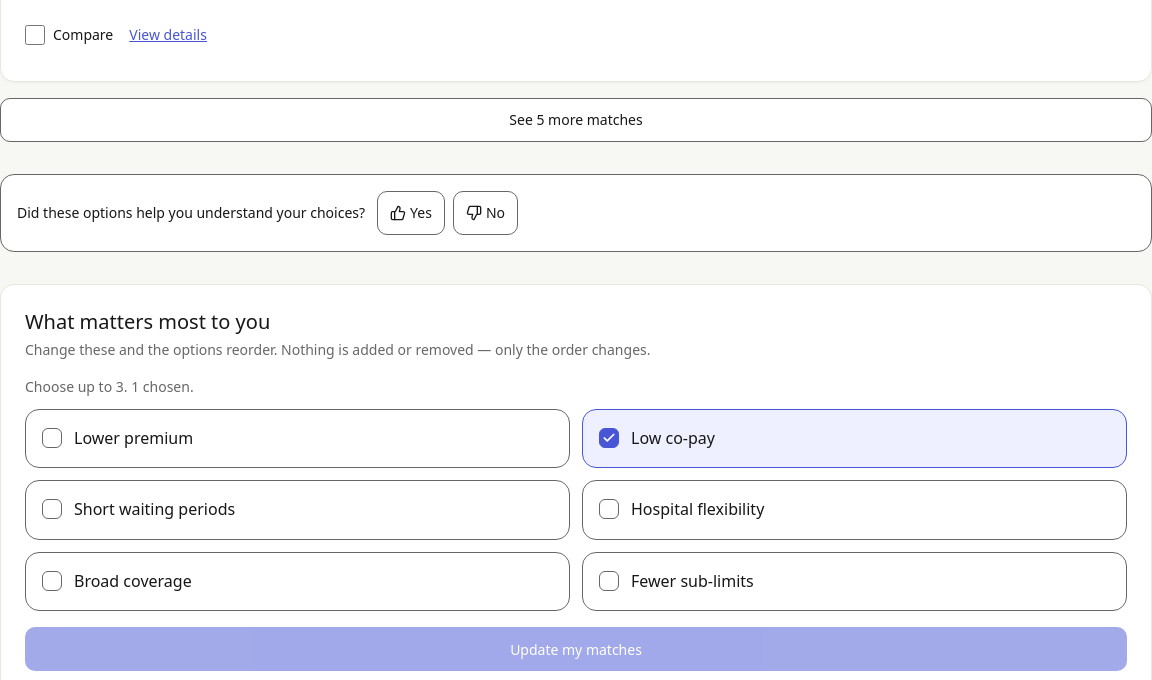
Test: ResultsClient › surfaces a failure to reorder without losing the results
(page scrolled)
Step 1. Click the checkbox labelled "Lower premium" → x=134, y=438, box x1=25 y1=408 x2=570 y2=468
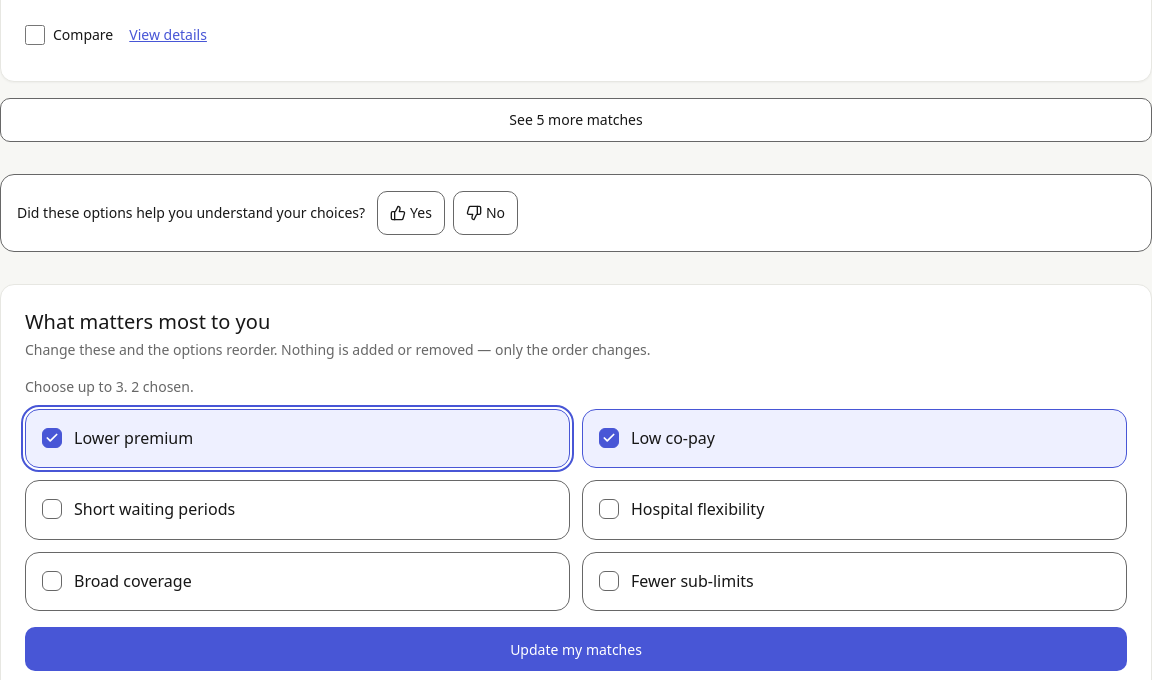
Step 2. Click the button "Update my matches" → x=576, y=649, box x1=25 y1=627 x2=1127 y2=671
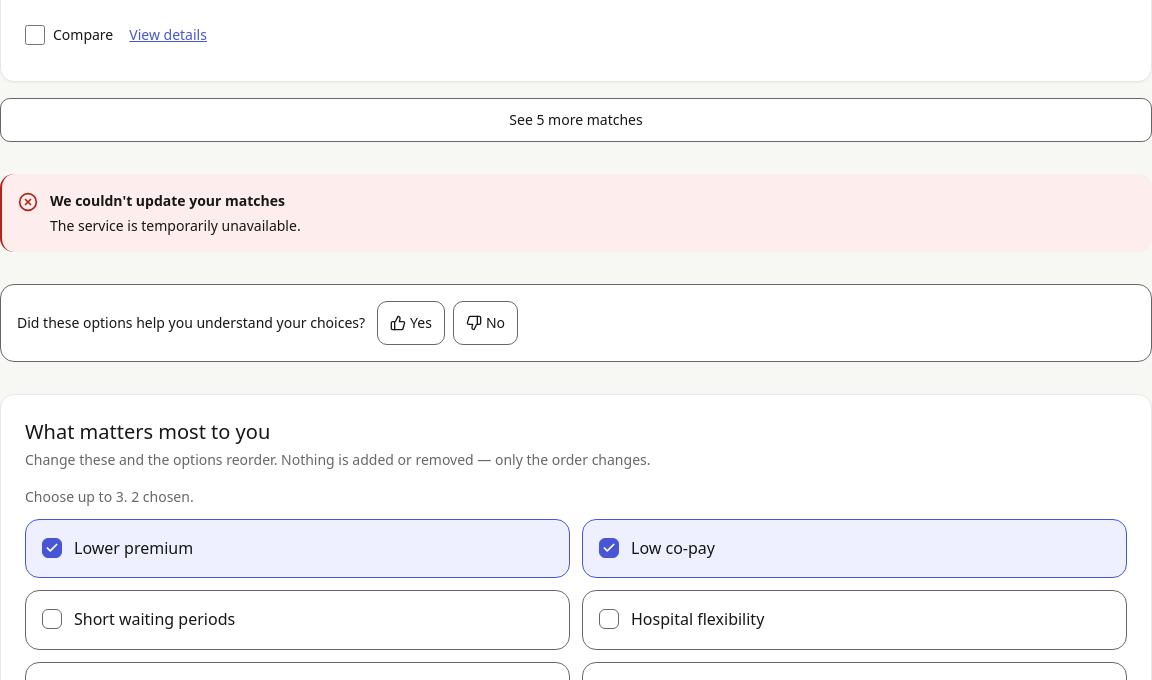
Expected: the message shows "temporarily unavailable", x1=50 y1=216 x2=301 y2=234
